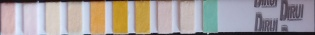color 1: (1, 4, 14, 33)
color 10: (204, 2, 216, 30)
color 2: (24, 5, 36, 33)
color 3: (47, 4, 58, 33)
color 4: (69, 4, 80, 33)
color 5: (92, 3, 103, 33)
color 6: (113, 3, 126, 31)
color 7: (136, 3, 148, 32)
color 8: (159, 2, 170, 31)
color 9: (181, 3, 193, 31)
